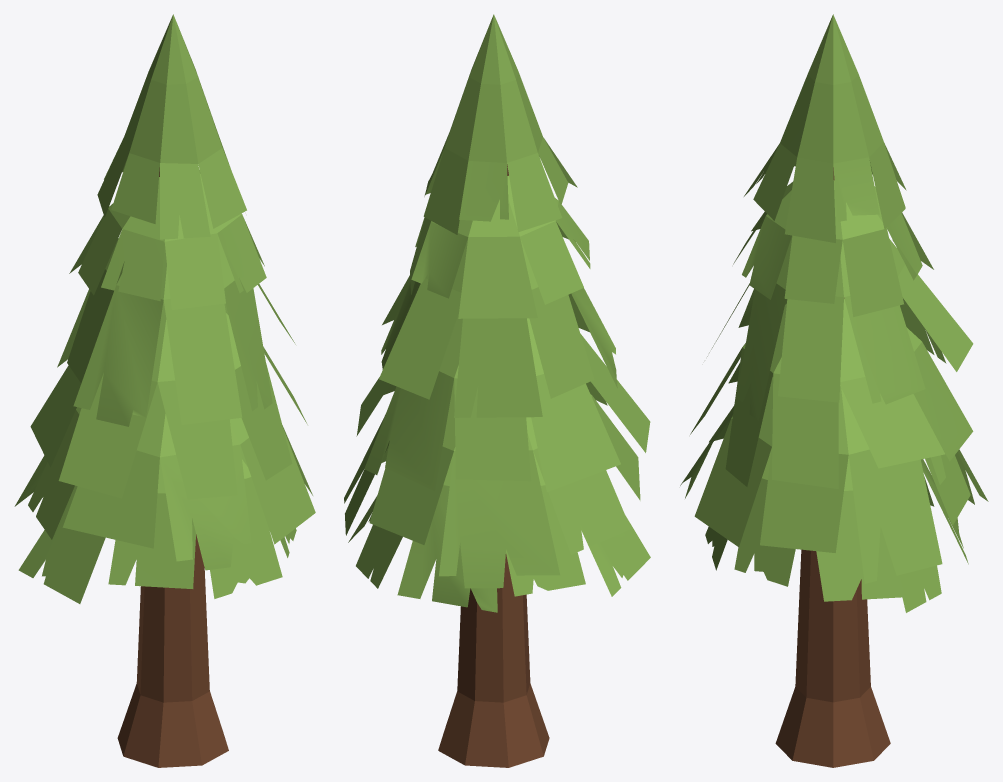
Rendered from arbol8.glb.
The picture shows the model from 3 angles, left to right: view 1: azimuth 30°, elevation 25°; view 2: azimuth 150°, elevation 25°; view 3: azimuth 270°, elevation 25°; orthographic projection.
Parts seen in each view (by area): view 1: Circle_5; view 2: Circle_5; view 3: Circle_5.
Part boxes in pixels (x1=…): Circle_5: x1=14, y1=14, x2=315, y2=767; Circle_5: x1=344, y1=14, x2=650, y2=767; Circle_5: x1=680, y1=14, x2=988, y2=767.
Size of the model in its own units: 0.9044 by 2.33 by 0.8967.
